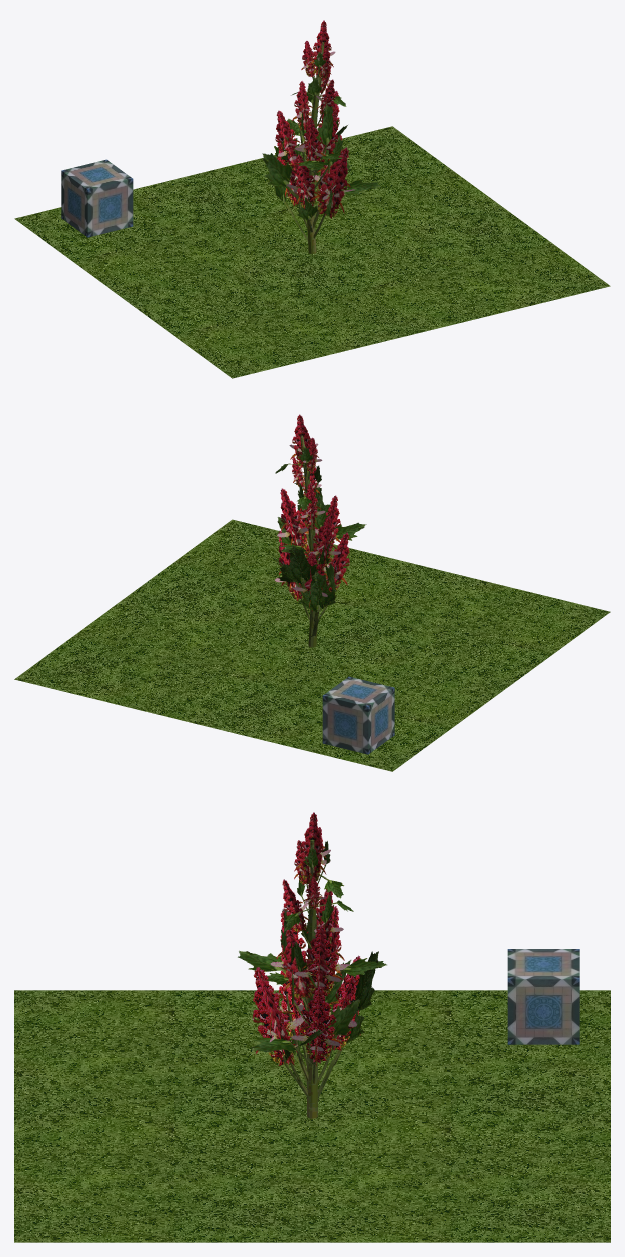
Rendered from struct_quinoa.gltf.
The picture shows the model from 3 angles, top to bottom: view 1: azimuth 30°, elevation 25°; view 2: azimuth 150°, elevation 25°; view 3: azimuth 270°, elevation 25°; orthographic projection. The views are drawn at different scales.
Parts seen in each view (by area): view 1: Ground, Quinoa, Box; view 2: Ground, Quinoa, Box; view 3: Ground, Quinoa, Box.
Boxes of the visible parts, x1,y1,x2,y2 form: Ground: [14, 126, 610, 378]; Quinoa: [262, 20, 380, 253]; Box: [61, 159, 133, 237]; Ground: [14, 519, 610, 771]; Quinoa: [273, 414, 366, 647]; Box: [322, 676, 394, 754]; Ground: [14, 990, 610, 1242]; Quinoa: [238, 812, 386, 1118]; Box: [507, 949, 579, 1044].
Bounding box in the file's own units: 2 × 1.17 × 2.
3 materials, 3 textured.
